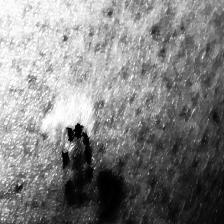Benign Marking or Mole: (71, 146, 88, 174)
